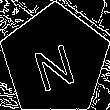N_N: (29, 30, 81, 91)
